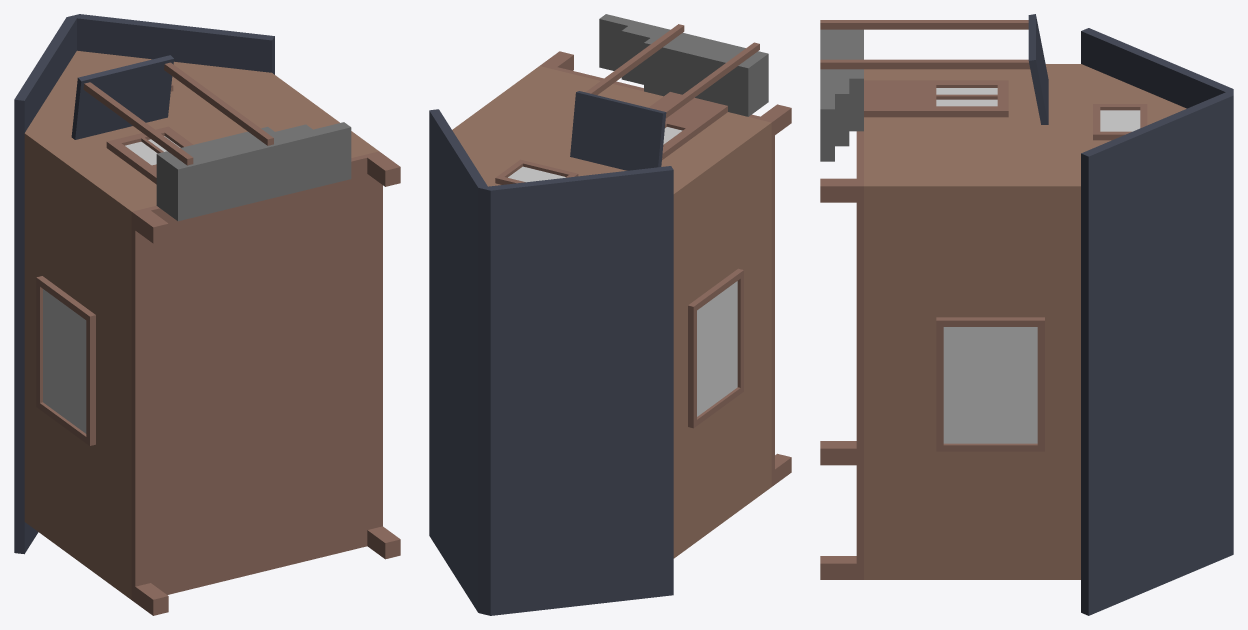
The model's file is House.fbx.
3 views of the same model, side by side, from view 1: azimuth 30°, elevation 25°; view 2: azimuth 150°, elevation 25°; view 3: azimuth 270°, elevation 25° (orthographic). The views are drawn at different scales.
Visible parts, largest first — view 1: House; view 2: House; view 3: House.
Part boxes in pixels (<box>): House: <box>14,14,400,615</box>; House: <box>429,14,791,615</box>; House: <box>820,14,1233,615</box>.
Bounding box in the file's own units: 421 × 749 × 571.
